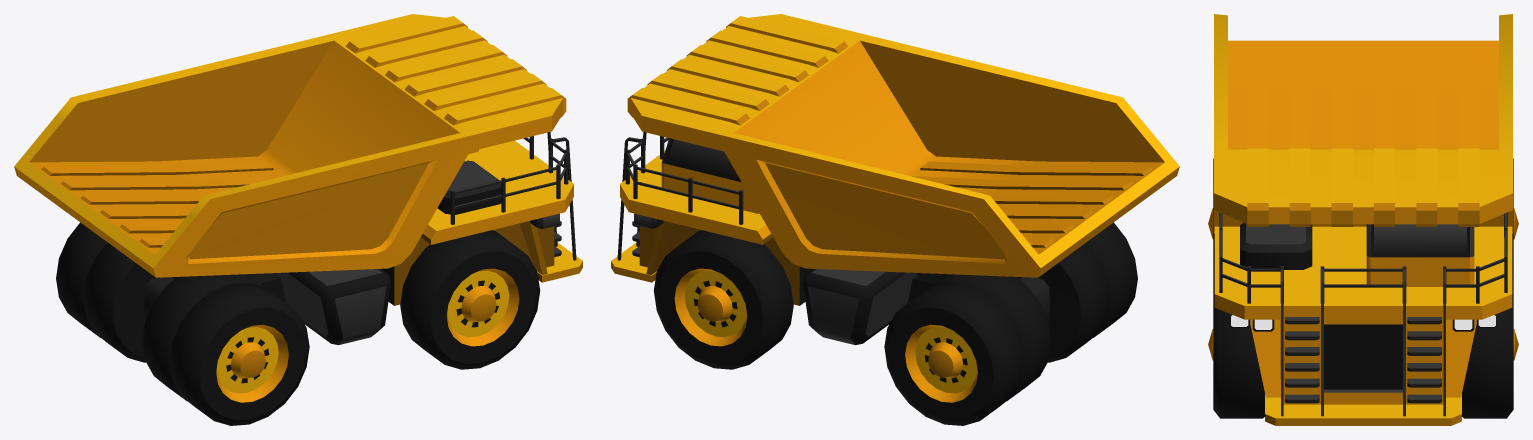
The model's file is Construction_001.glb.
3 renders of one model, left to right at view 1: azimuth 30°, elevation 25°; view 2: azimuth 150°, elevation 25°; view 3: azimuth 270°, elevation 25°, orthographic. The views are drawn at different scales.
Parts seen in each view (by area): view 1: Construction_001, wheel_3_Construction_001_Wheel_2R, wheel_1_Construction_001_Wheel_1R, wheel_2_Construction_001_Wheel_2L; view 2: Construction_001, wheel_2_Construction_001_Wheel_2L, wheel_0_Construction_001_Wheel_1L, wheel_3_Construction_001_Wheel_2R; view 3: Construction_001, wheel_0_Construction_001_Wheel_1L, wheel_1_Construction_001_Wheel_1R.
Boxes of the visible parts, x1,y1,x2,y2 form: Construction_001: [14, 14, 582, 345]; wheel_3_Construction_001_Wheel_2R: [142, 274, 309, 425]; wheel_1_Construction_001_Wheel_1R: [400, 230, 540, 369]; wheel_2_Construction_001_Wheel_2L: [56, 222, 156, 362]; Construction_001: [611, 14, 1179, 345]; wheel_2_Construction_001_Wheel_2L: [884, 274, 1051, 425]; wheel_0_Construction_001_Wheel_1L: [653, 230, 793, 369]; wheel_3_Construction_001_Wheel_2R: [1037, 222, 1137, 362]; Construction_001: [1214, 14, 1512, 425]; wheel_0_Construction_001_Wheel_1L: [1462, 278, 1518, 418]; wheel_1_Construction_001_Wheel_1R: [1208, 278, 1264, 418].
Bounding box in the file's own units: 8.08 × 4.06 × 4.42.
Materials: 2 (2 with a texture image).
